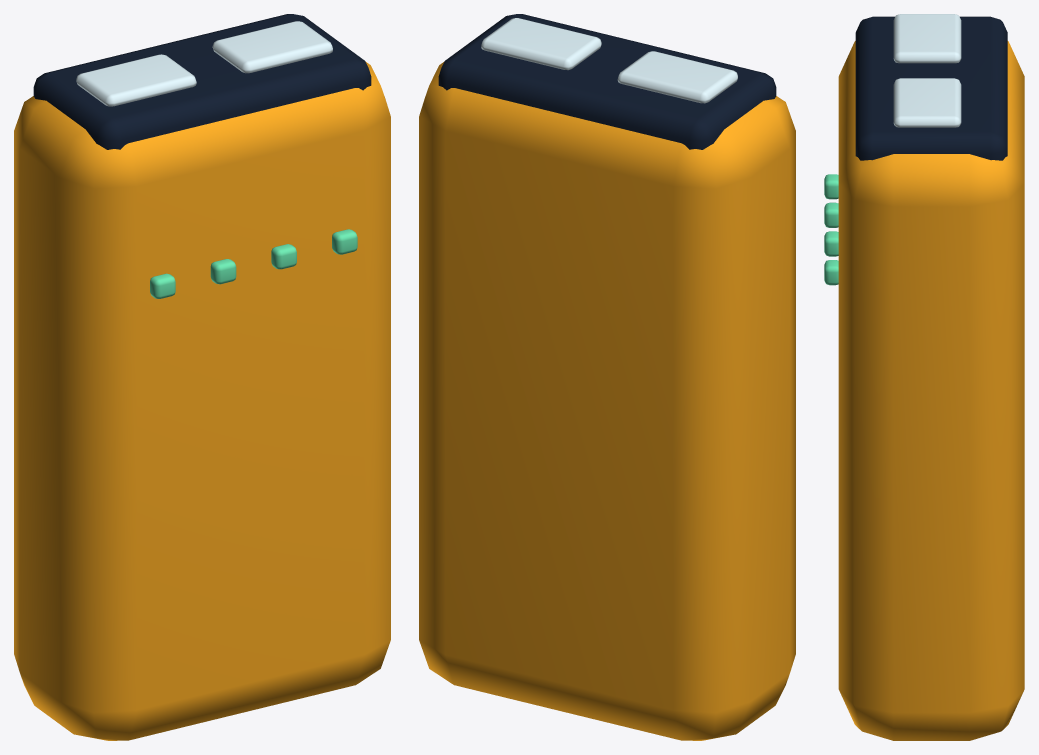
Rendered from powerbank.glb.
3 renders of one model, left to right at view 1: azimuth 30°, elevation 25°; view 2: azimuth 150°, elevation 25°; view 3: azimuth 270°, elevation 25°, orthographic. The views are drawn at different scales.
Visible parts, largest first — view 1: powerbank; view 2: powerbank; view 3: powerbank.
Part boxes in pixels (bbox=[...]): powerbank: bbox=[14, 14, 390, 740]; powerbank: bbox=[419, 14, 795, 740]; powerbank: bbox=[824, 14, 1024, 740].
Size of the model in its own units: 0.5309 by 1 by 0.2926.
Materials: 1 (1 with a texture image).
